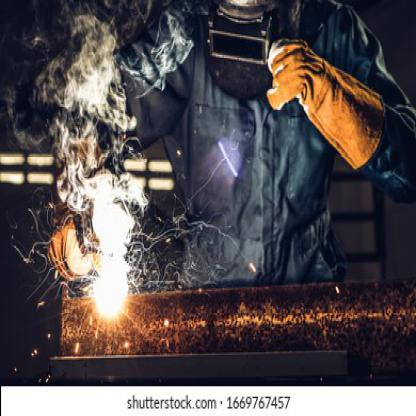with_gloves: (266, 36, 385, 174)
